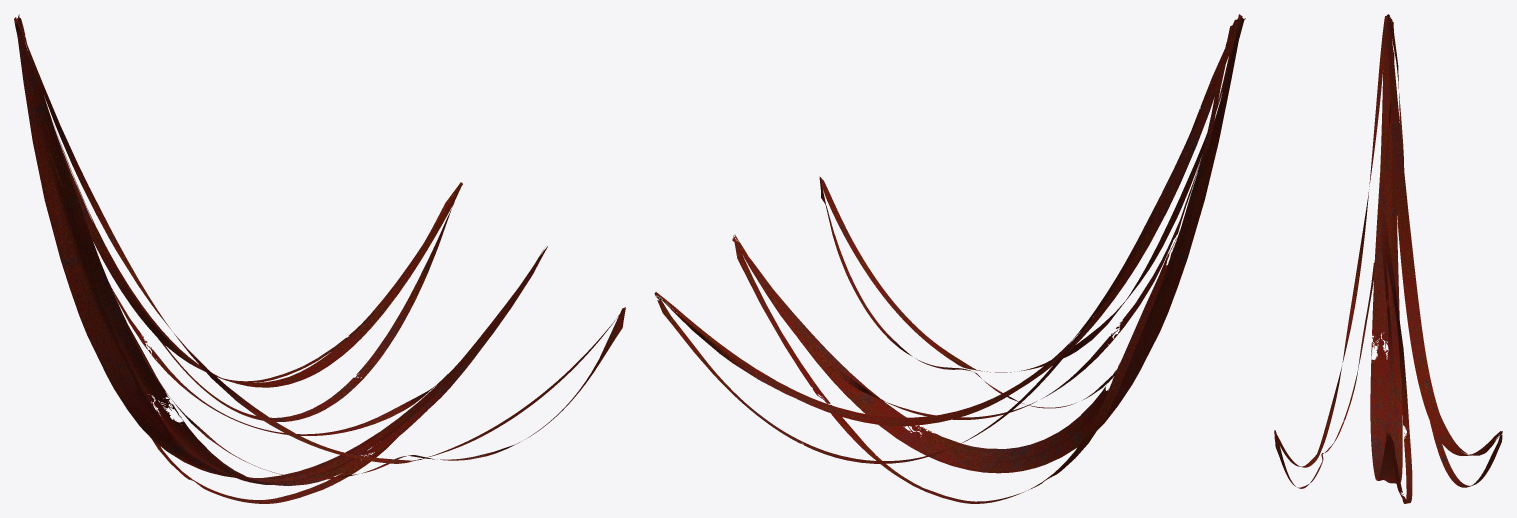
The model's file is P_Cloth07.fbx.
The picture shows the model from 3 angles, left to right: view 1: azimuth 30°, elevation 25°; view 2: azimuth 150°, elevation 25°; view 3: azimuth 270°, elevation 25°; orthographic projection. The views are drawn at different scales.
Visible parts, largest first — view 1: P_Cloth07; view 2: P_Cloth07; view 3: P_Cloth07.
Part boxes in pixels (x1=…): P_Cloth07: x1=14, y1=14, x2=625, y2=503; P_Cloth07: x1=654, y1=14, x2=1245, y2=503; P_Cloth07: x1=1274, y1=14, x2=1502, y2=503.
Size of the model in its own units: 2877 by 2914 by 1574.
